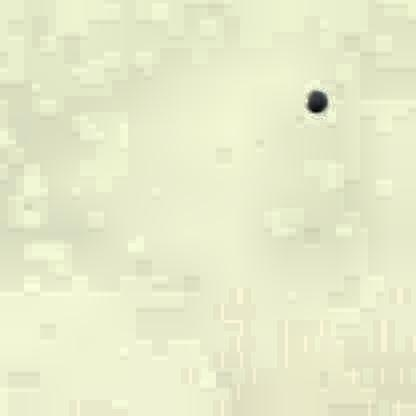golfball: (301, 87, 326, 111)
